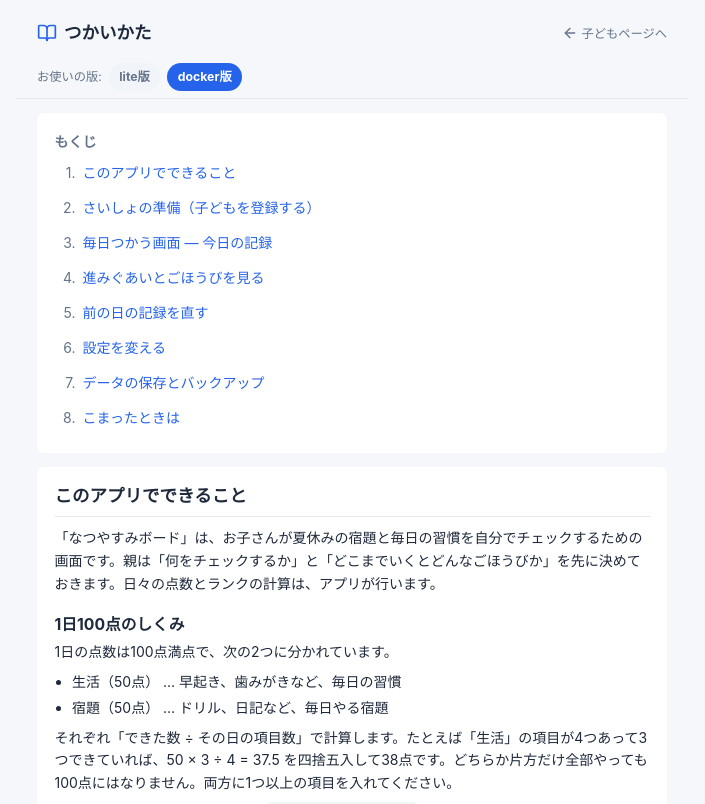
Test: マニュアル画面 › lite版 の警告段落は、読み上げにも警告と分かる
Click the radio button labelled "lite版".
click(135, 77)  # box left=109, top=63, right=160, bottom=91
(page scrolled)
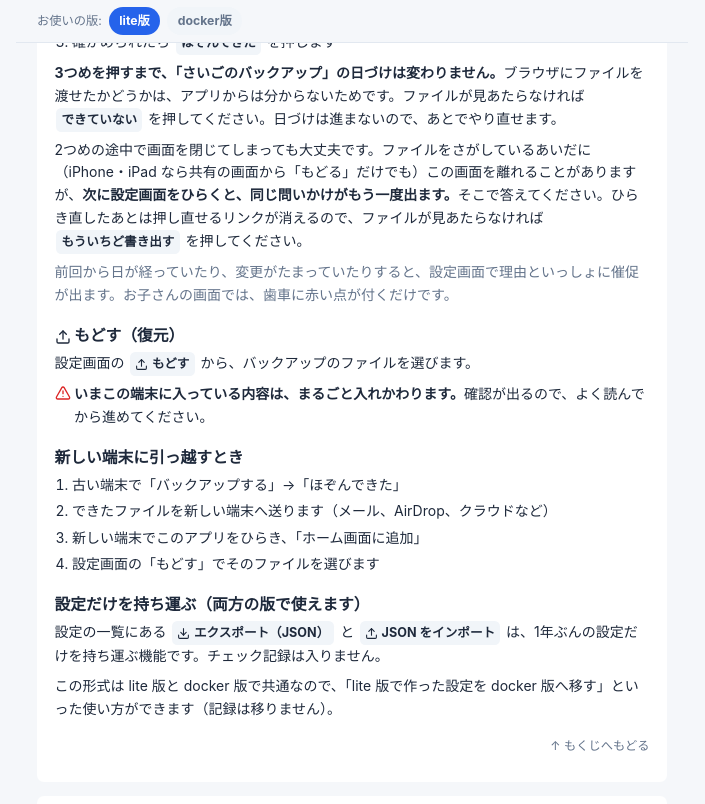
Result: the element showing "いまこの端末に入っている内容は、まるごと入れかわります。確認が出るので、よく読んでから進めてください。" is shown at left=54, top=383, right=650, bottom=428
